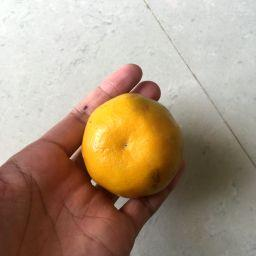Ripe: (83, 97, 185, 197)
